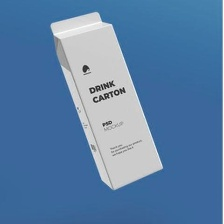carton: (48, 9, 173, 197)
